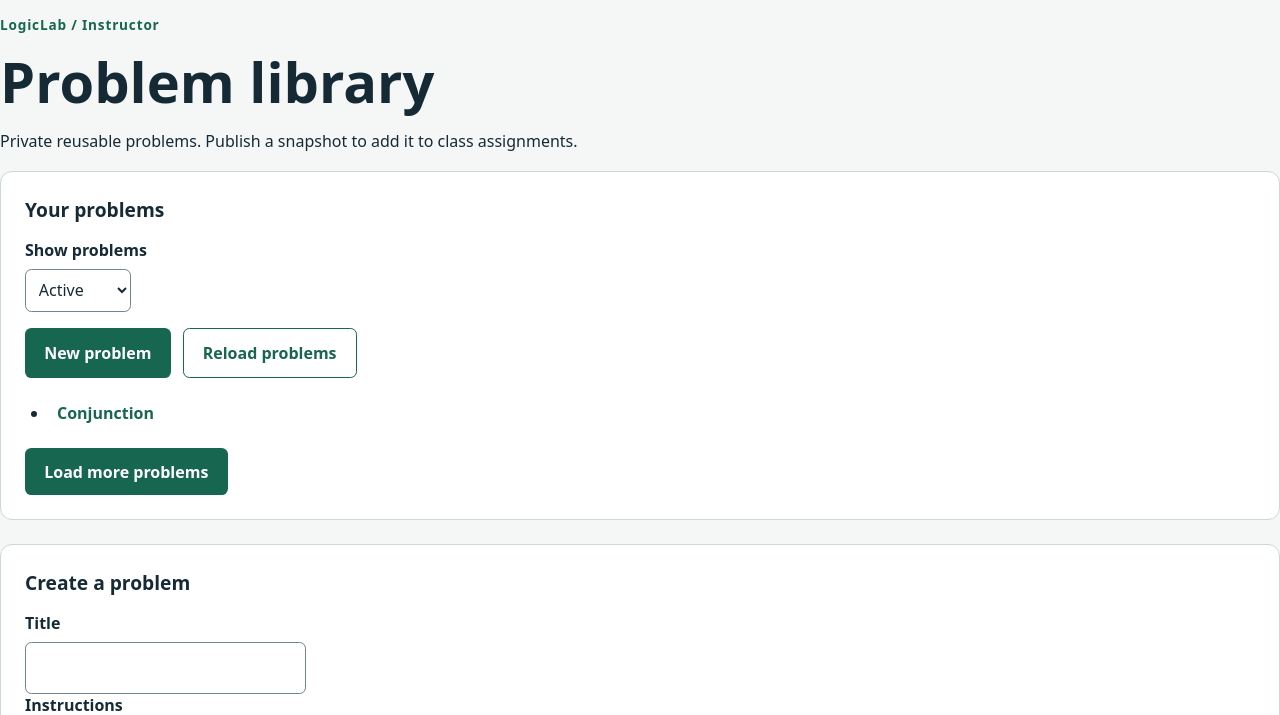
Test case: library and version pagination append results and stop on the last page
The image size is (1280, 715).
Click the button "Load more problems": (126, 472) top-left (25, 448), bottom-right (228, 495)
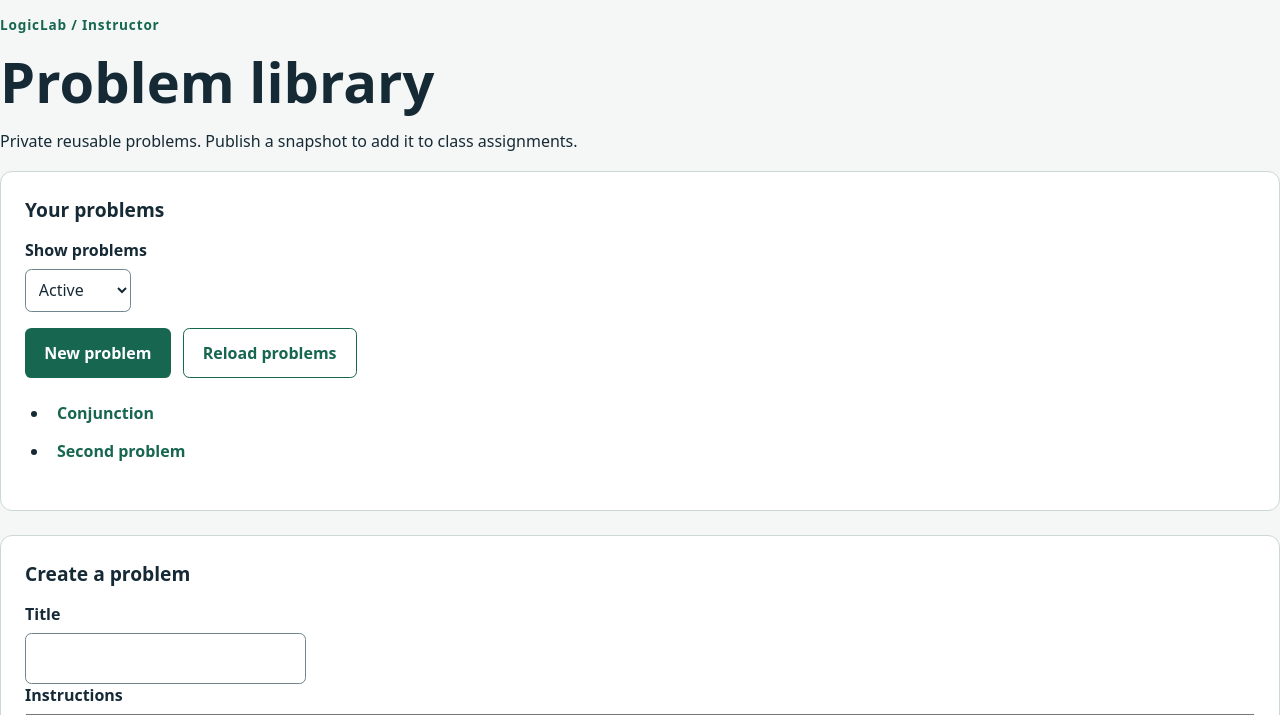
Expected: the button "Second problem" is shown, top-left (49, 432), bottom-right (193, 470)
Expected: the button "Load more problems" is gone
Click the button "Conjunction": (106, 413) top-left (49, 394), bottom-right (162, 432)
(page scrolled)
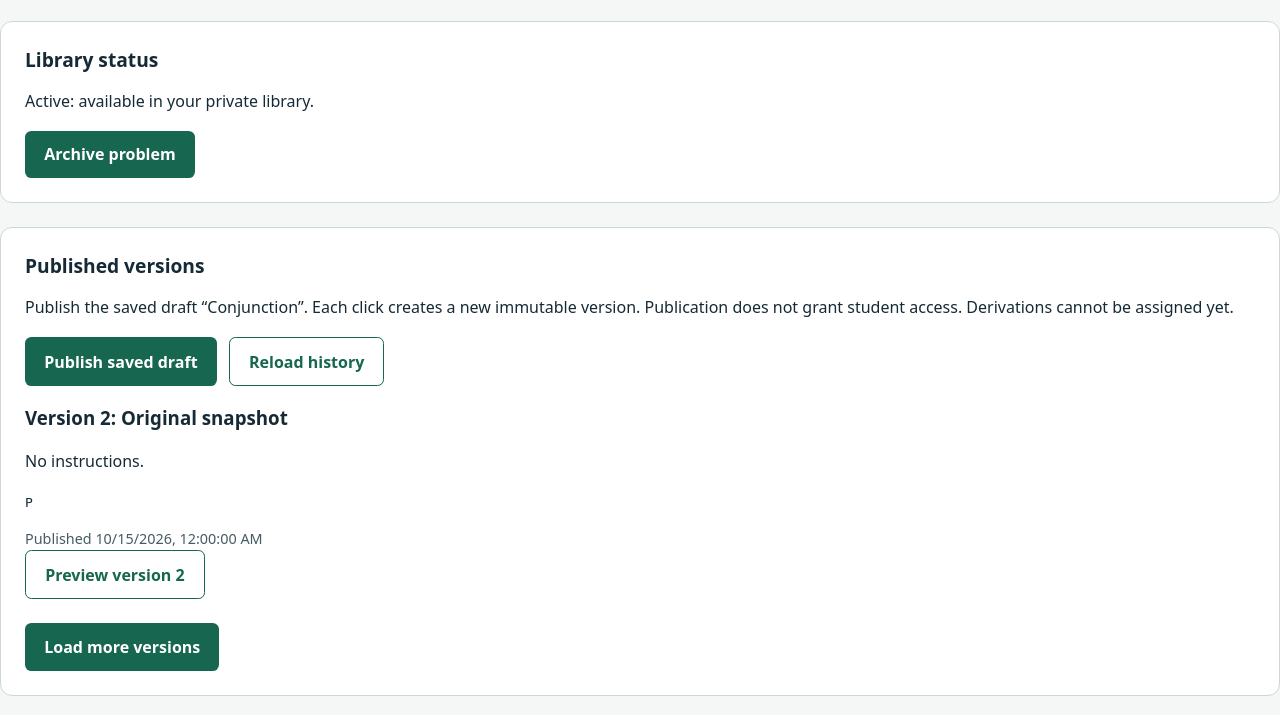
Click the button "Load more versions": (122, 647) top-left (25, 623), bottom-right (220, 671)
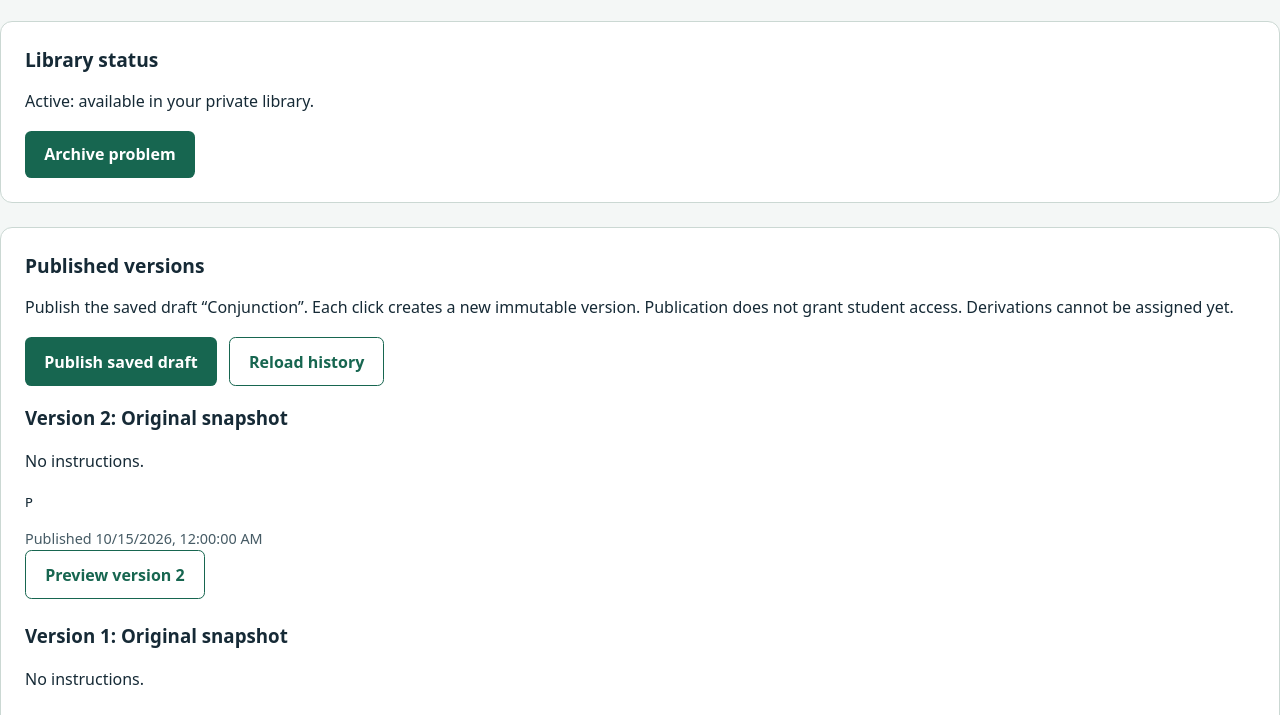
Expected: the heading "Version 2: Original snapshot" is shown, top-left (25, 405), bottom-right (288, 430)
Expected: the heading "Version 1: Original snapshot" is shown, top-left (25, 623), bottom-right (288, 648)
Expected: the button "Load more versions" is gone
